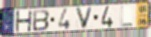4: (100, 5, 114, 29), (58, 7, 71, 31)
B: (32, 9, 51, 32)
H: (15, 10, 33, 33)
L: (120, 6, 134, 28)
V: (75, 6, 94, 30)
